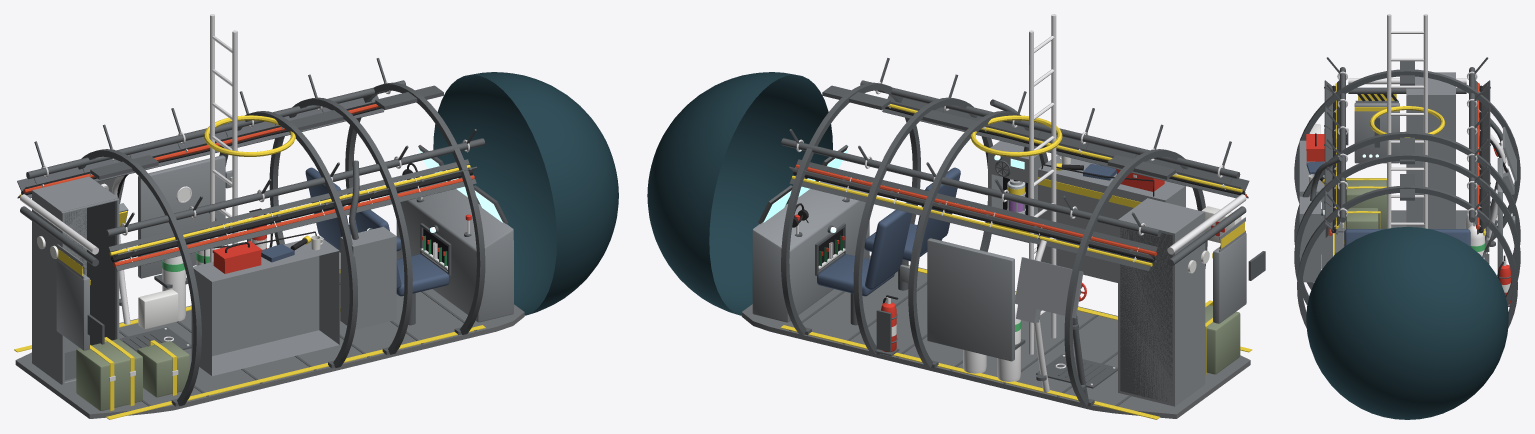
Rendered from SM_Sub_Interior_Repaired.fbx.
3 views of the same model, side by side, from view 1: azimuth 30°, elevation 25°; view 2: azimuth 150°, elevation 25°; view 3: azimuth 270°, elevation 25° (orthographic). The views are drawn at different scales.
Visible parts, largest first — view 1: SM_Sub_Interior_Repaired; view 2: SM_Sub_Interior_Repaired; view 3: SM_Sub_Interior_Repaired.
Boxes of the visible parts, left/top/right/bottom form: SM_Sub_Interior_Repaired: left=14, top=14, right=618, bottom=419; SM_Sub_Interior_Repaired: left=647, top=14, right=1265, bottom=419; SM_Sub_Interior_Repaired: left=1294, top=14, right=1520, bottom=419.
Size of the model in its own units: 4.83 by 2.94 by 2.1.
